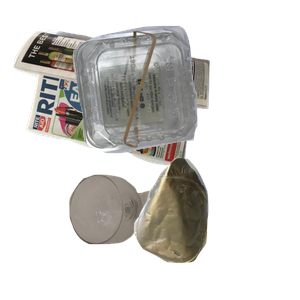glass: (67, 172, 229, 300)
paper: (11, 27, 213, 185)
plastic: (71, 23, 300, 169)
trash: (131, 155, 300, 300)
